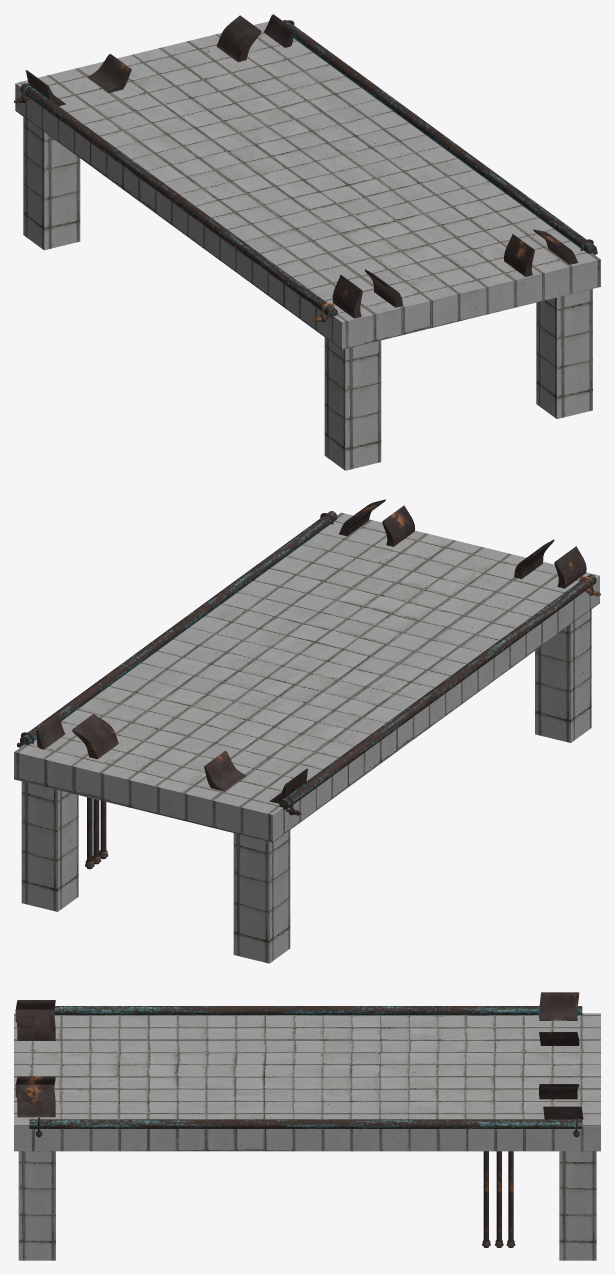
File: Operating_TabelFixed.fbx
The picture shows the model from 3 angles, top to bottom: view 1: azimuth 30°, elevation 25°; view 2: azimuth 150°, elevation 25°; view 3: azimuth 270°, elevation 25°; orthographic projection. The views are drawn at different scales.
Visible parts, largest first — view 1: Operating_TableFixed; view 2: Operating_TableFixed; view 3: Operating_TableFixed.
Boxes of the visible parts, left/top/right/bottom form: Operating_TableFixed: left=14, top=14, right=600, bottom=470; Operating_TableFixed: left=14, top=499, right=600, bottom=963; Operating_TableFixed: left=14, top=992, right=600, bottom=1260.
Bounding box in the file's own units: 119 × 71.71 × 239.
1 material, 1 textured.
